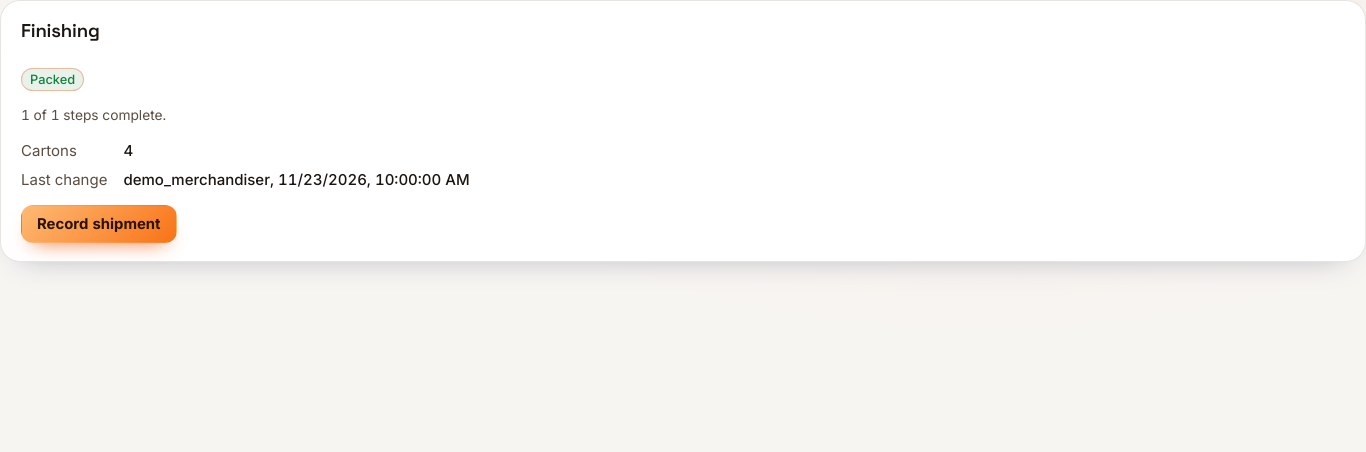
Test: completing work › offers only the order actions this person may take, and asks for the shipment details
Expected: the text "1 of 1 steps complete." is shown, [21, 107, 166, 123]
What coordinates should you click on to do the following:
click the button "Record shipment"
I would click on:
 (99, 224)
Its box is [21, 205, 176, 243].
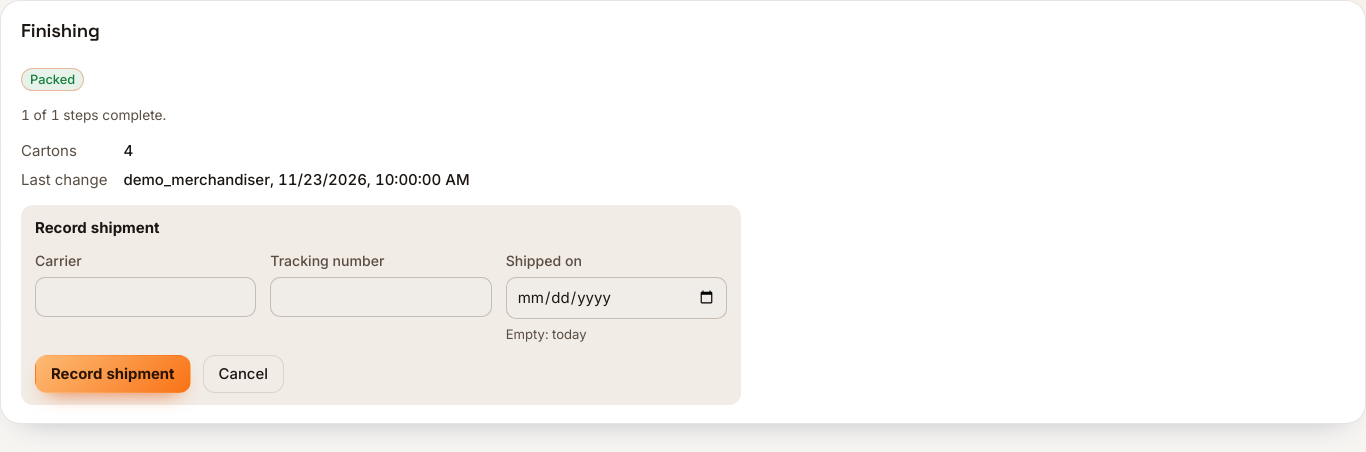
Now the field labelled "Tracking number" is shown, box [270, 277, 492, 317]
